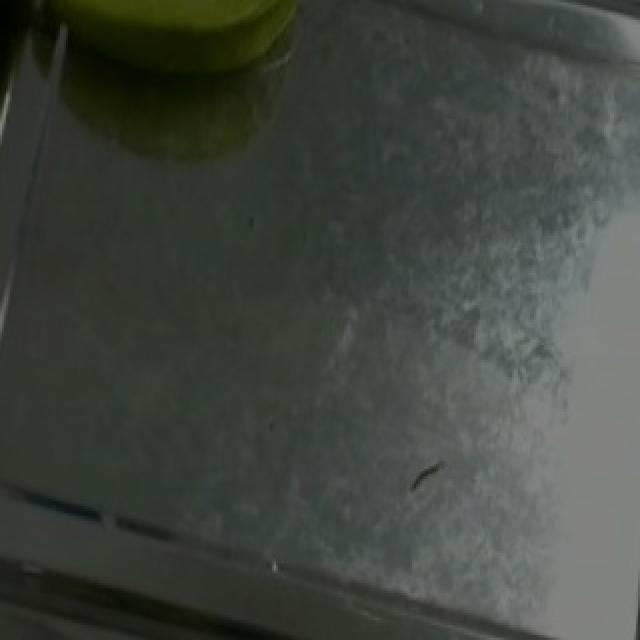fruit: (22, 0, 324, 62)
